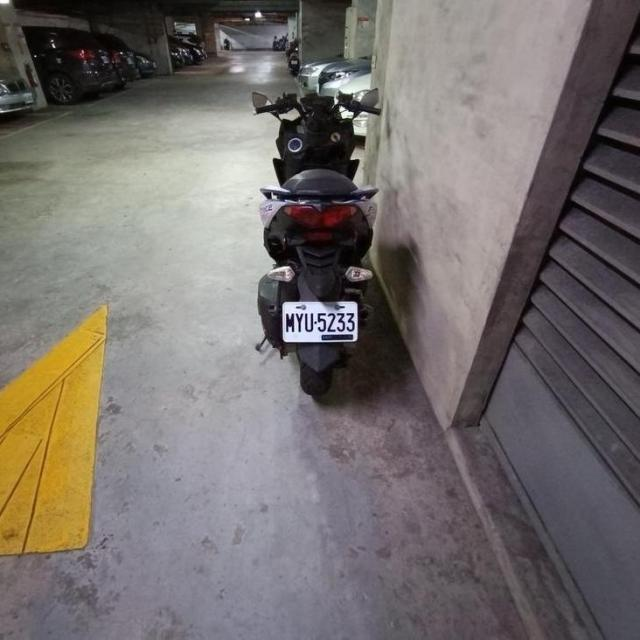W: (279, 299, 358, 342)
